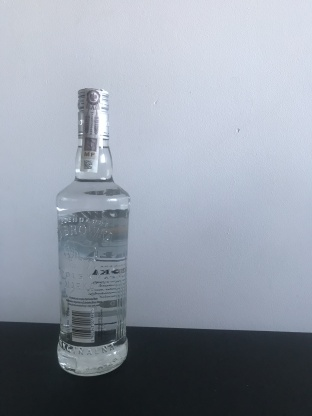nakretka: (75, 83, 110, 142)
